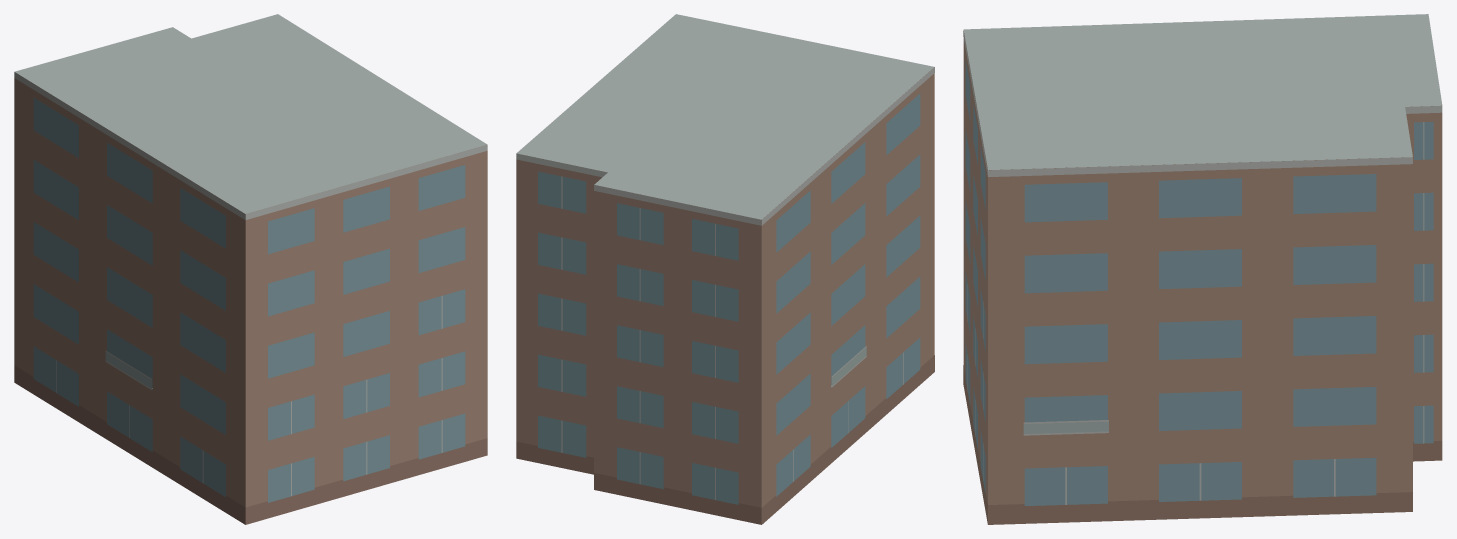
File: survey-upis-32657904.glb
3 renders of one model, left to right at view 1: azimuth 30°, elevation 25°; view 2: azimuth 150°, elevation 25°; view 3: azimuth 270°, elevation 25°, orthographic. The views are drawn at different scales.
Parts seen in each view (by area): view 1: survey-upis-32657904.tmp; view 2: survey-upis-32657904.tmp; view 3: survey-upis-32657904.tmp.
Part boxes in pixels (x1,y1,x2,y2): survey-upis-32657904.tmp: (14,14,487,524); survey-upis-32657904.tmp: (516,14,934,524); survey-upis-32657904.tmp: (963,14,1442,524).
Size of the model in its own units: 11.67 by 12.35 by 15.12.
